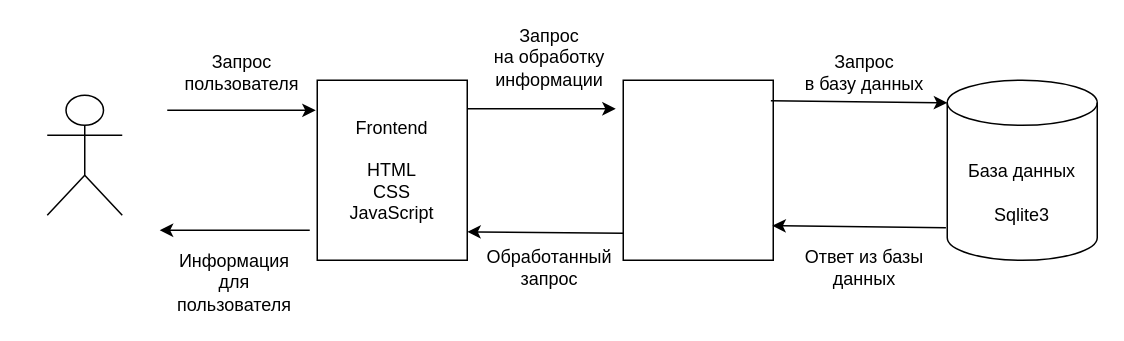
Some shapes in this 1124 by 341 pixel diagram are drawn without their labels. The centre of each missing label's shape, as x and y in pixels:
"Backend Python Django" belongs at (x=697, y=169).
"Пользователь" belongs at (x=84, y=154).
